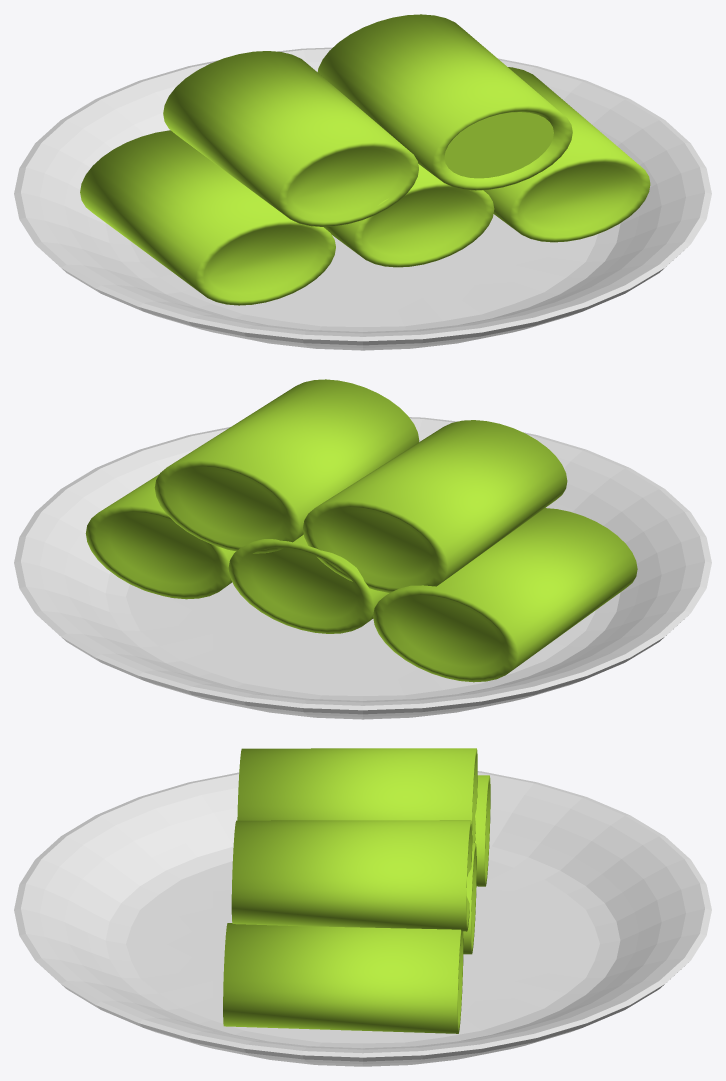
Rendered from DADAR GULUNG ISI ENTEN.fbx.
The picture shows the model from 3 angles, top to bottom: view 1: azimuth 30°, elevation 25°; view 2: azimuth 150°, elevation 25°; view 3: azimuth 270°, elevation 25°; orthographic projection.
Parts seen in each view (by area): view 1: Cylinder, Cylinder.003, Cylinder.016, Cylinder.004, Cylinder.002, Cylinder.001, Cylinder.006; view 2: Cylinder, Cylinder.003, Cylinder.004, Cylinder.016, Cylinder.002, Cylinder.001; view 3: Cylinder, Cylinder.004, Cylinder.002, Cylinder.003, Cylinder.016, Cylinder.001.
Part boxes in pixels (bbox=[...]): Cylinder: bbox=[14, 47, 711, 350]; Cylinder.003: bbox=[163, 51, 418, 226]; Cylinder.016: bbox=[80, 130, 335, 305]; Cylinder.004: bbox=[317, 14, 572, 190]; Cylinder.002: bbox=[483, 67, 650, 242]; Cylinder.001: bbox=[324, 164, 494, 267]; Cylinder.006: bbox=[444, 112, 553, 178]; Cylinder: bbox=[14, 417, 711, 719]; Cylinder.003: bbox=[303, 420, 567, 592]; Cylinder.004: bbox=[154, 379, 419, 553]; Cylinder.016: bbox=[373, 508, 637, 682]; Cylinder.002: bbox=[85, 474, 235, 599]; Cylinder.001: bbox=[228, 534, 389, 633]; Cylinder: bbox=[14, 771, 711, 1066]; Cylinder.004: bbox=[231, 820, 472, 931]; Cylinder.002: bbox=[223, 923, 463, 1033]; Cylinder.003: bbox=[237, 748, 477, 850]; Cylinder.016: bbox=[475, 775, 490, 886]; Cylinder.001: bbox=[463, 843, 476, 954].
Bounding box in the file's own units: 231 × 61.9 × 231.
